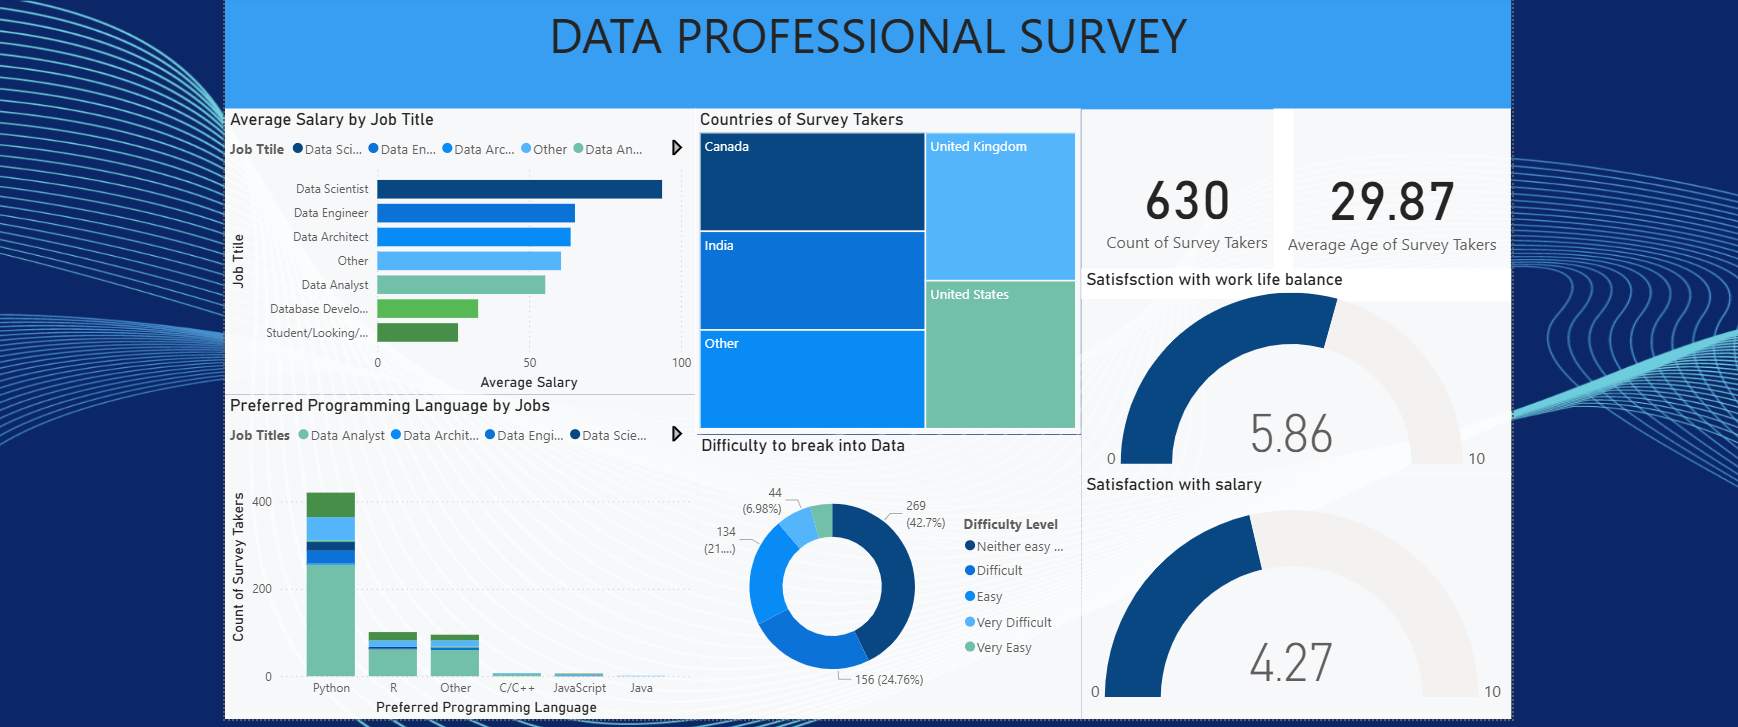

The dashboard page shown, as its layout file describes it:
{"tool":"powerbi","page":{"name":"Page 1","canvas":[1280,720],"ordinal":0},"visuals":[{"type":"card","fields":{"Values":["Count(Data Professional Survey.Unique ID)"]},"box":[852.1,112.5,211.3,189.4],"z":0},{"type":"textbox","box":[0,0,1280.3,112.5],"z":1000},{"type":"card","fields":{"Values":["Avg(Data Professional Survey.Q10 - Current Age)"]},"box":[1044.3,112.5,236,192.1],"z":2000},{"type":"barChart","title":"Average Salary by Job Title","fields":{"Category":["Data Professional Survey.Q1 - Which Title Best Fits your Current Role?.1"],"Y":["Avg(Data Professional Survey.Average Salary)"],"Series":["Data Professional Survey.Q1 - Which Title Best Fits your Current Role?.1"]},"box":[0,112,469,284.9],"z":3000},{"type":"columnChart","title":"Preferred Programming Language by Jobs","fields":{"Category":["Data Professional Survey.Q5 - Favorite Programming Language.1"],"Y":["CountNonNull(Data Professional Survey.Unique ID)"],"Series":["Data Professional Survey.Q1 - Which Title Best Fits your Current Role?.1"]},"box":[0,396.6,469.3,323.8],"z":4000},{"type":"treemap","title":"Countries of Survey Takers","fields":{"Group":["Data Professional Survey.Q11 - Which Country do you live in?.1"],"Values":["Count(Data Professional Survey.Q11 - Which Country do you live in?.1)"]},"box":[467.9,112.5,384.2,323.8],"z":5000},{"type":"gauge","title":"Satisfsction with work life balance","fields":{"Y":["Avg(Data Professional Survey.Q6 - How Happy are you in your Current Position with the following? (Coworkers))"],"MinValue":["Min(Data Professional Survey.Q6 - How Happy are you in your Current Position with the following? (Coworkers))"],"MaxValue":["Max(Data Professional Survey.Q6 - How Happy are you in your Current Position with the following? (Coworkers))1"]},"box":[852.1,271.7,428.1,204.5],"z":6000},{"type":"gauge","title":"Satisfaction with salary","fields":{"Y":["Avg(Data Professional Survey.Q6 - How Happy are you in your Current Position with the following? (Salary))"],"MinValue":["Min(Data Professional Survey.Q6 - How Happy are you in your Current Position with the following? (Salary))"],"MaxValue":["Max(Data Professional Survey.Q6 - How Happy are you in your Current Position with the following? (Salary))1"]},"box":[852.1,475.2,427.9,245.1],"z":7000},{"type":"donutChart","title":"Difficulty to break into Data","fields":{"Category":["Data Professional Survey.Q7 - How difficult was it for you to break into Data?"],"Y":["CountNonNull(Data Professional Survey.Q7 - How difficult was it for you to break into Data?)"]},"box":[469,437,383,283],"z":8000}]}

Visuals, with their boxes in screenshot pixels (x1, y1, x2, y2):
card - Count(Data Professional Survey.Unique ID): [x1=1081, y1=108, x2=1292, y2=297]
textbox: [x1=231, y1=0, x2=1509, y2=108]
card - Avg(Data Professional Survey.Q10 - Current Age): [x1=1273, y1=108, x2=1509, y2=299]
"Average Salary by Job Title" barChart: [x1=231, y1=107, x2=699, y2=392]
"Preferred Programming Language by Jobs" columnChart: [x1=231, y1=391, x2=699, y2=714]
"Countries of Survey Takers" treemap: [x1=698, y1=108, x2=1081, y2=431]
"Satisfsction with work life balance" gauge: [x1=1081, y1=267, x2=1509, y2=471]
"Satisfaction with salary" gauge: [x1=1081, y1=470, x2=1508, y2=714]
"Difficulty to break into Data" donutChart: [x1=699, y1=432, x2=1081, y2=714]
